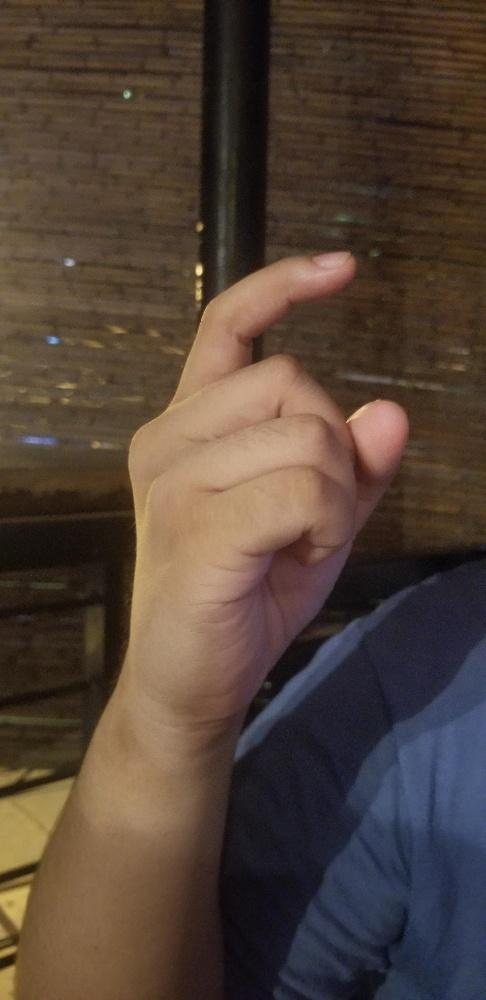x: (124, 243, 411, 690)
